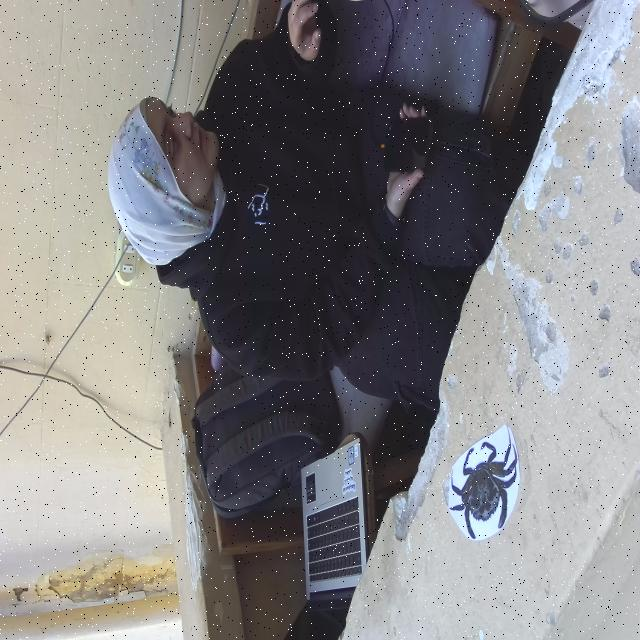European_Green_Crab: (441, 422, 528, 555)
